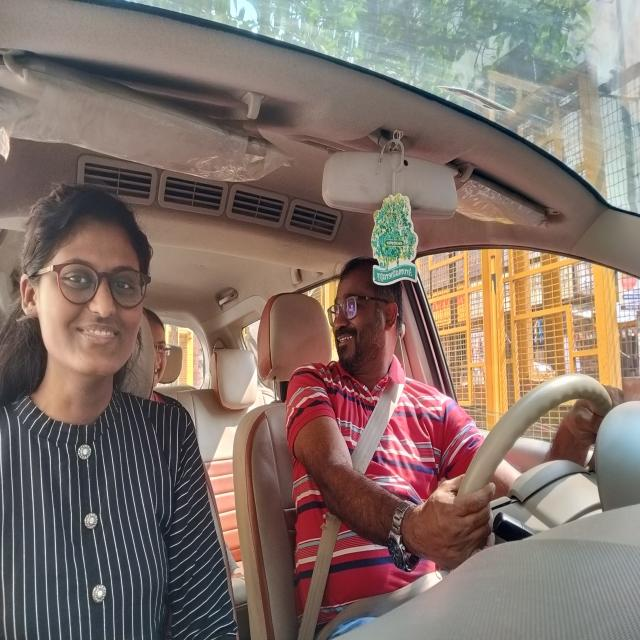LeftRight: (318, 258, 396, 370)
person: (20, 179, 154, 380), (144, 306, 175, 391)
talking: (333, 327, 357, 348)
